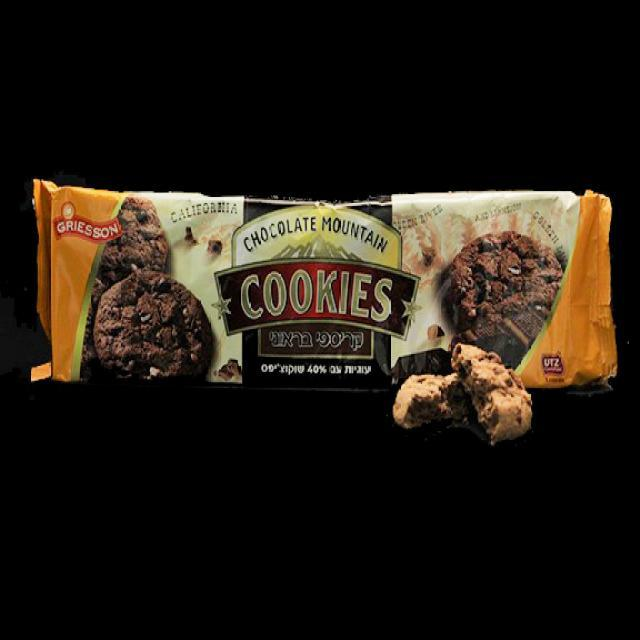Cookie: (29, 175, 610, 395), (384, 342, 536, 446)
